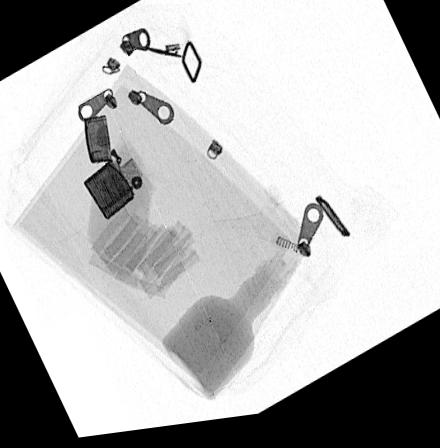Lighter: (82, 117, 143, 224)
